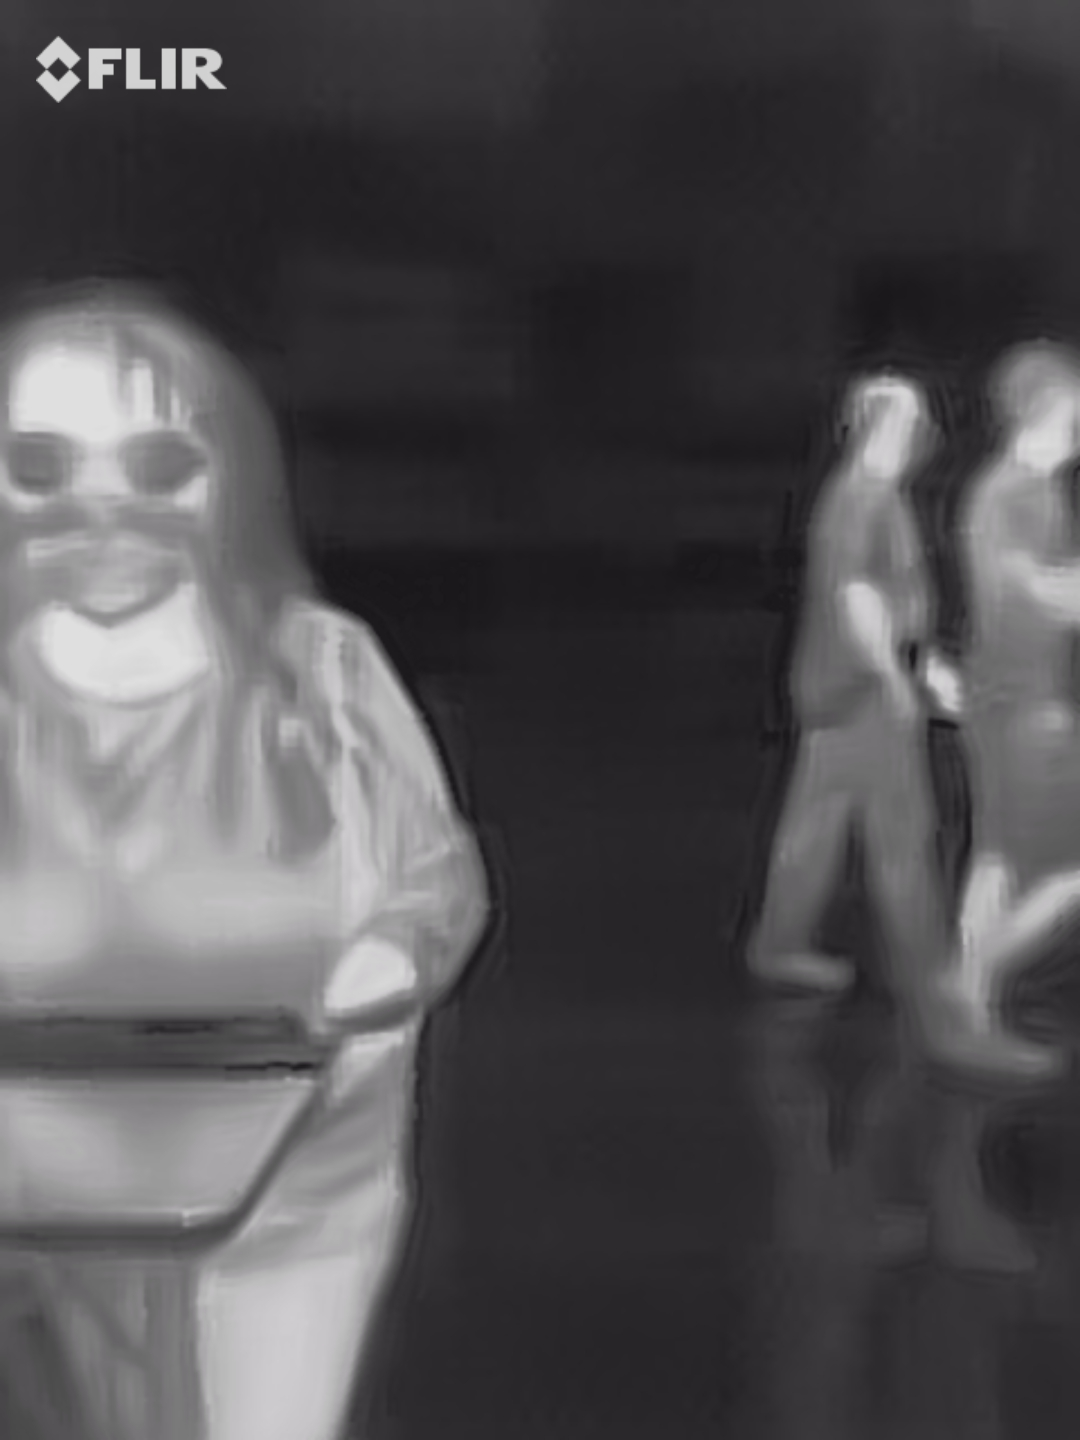head: (4, 285, 239, 617), (992, 343, 1080, 467), (841, 372, 924, 475)
